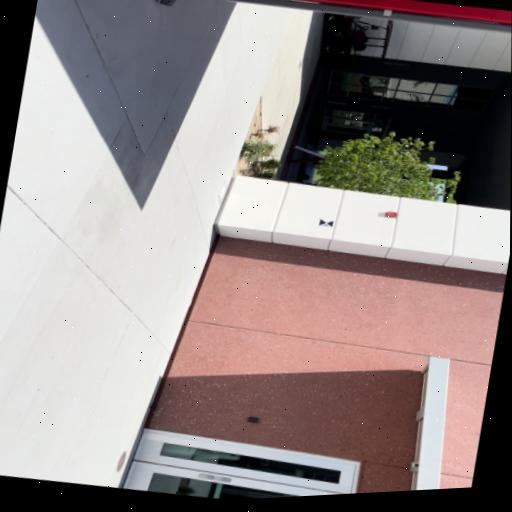target6: (318, 218, 333, 228)
